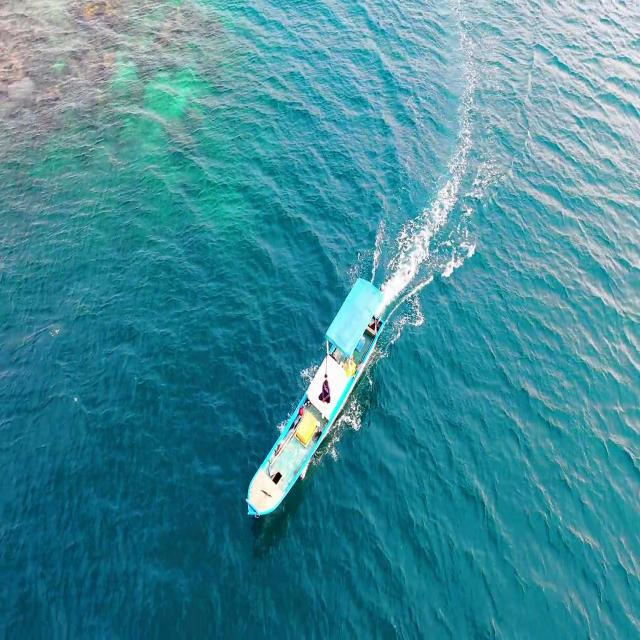ship: (244, 270, 394, 526)
